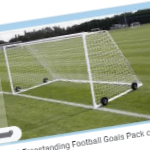goals: (3, 30, 145, 114)
